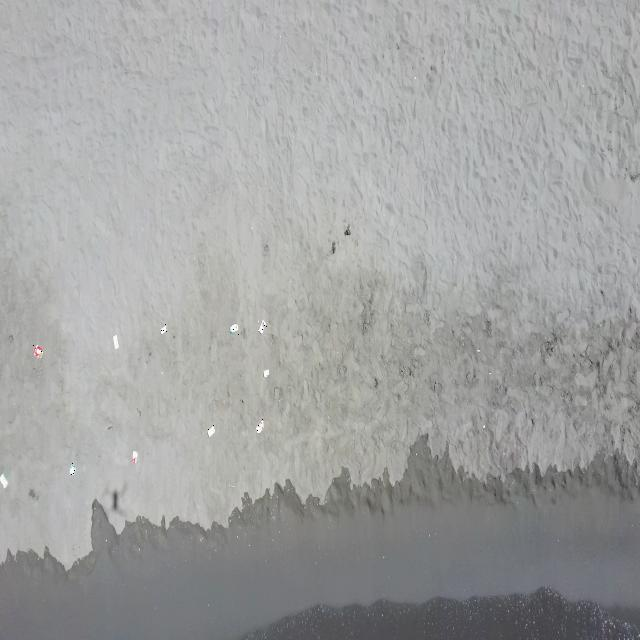retort-pouch: (258, 319, 267, 335), (33, 344, 43, 358), (0, 473, 8, 490), (256, 419, 264, 435), (112, 334, 120, 350), (230, 322, 239, 335), (207, 425, 215, 438), (132, 449, 138, 465), (160, 323, 167, 336), (262, 368, 270, 379), (70, 463, 76, 477)
